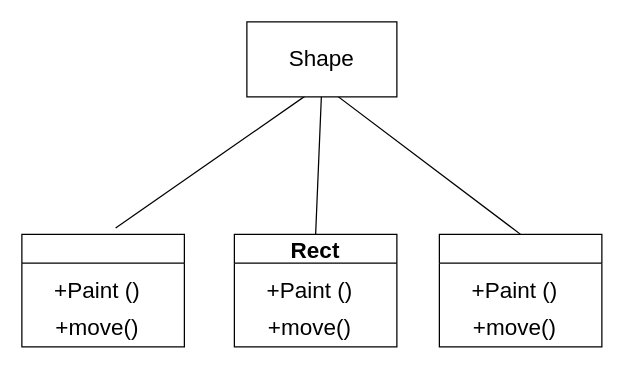
Some shapes in this 624 by 369 pixel diagram are drawn without their labels. Each missing label, with the box of its shape:
circle: (21, 233, 184, 347)
Line: (438, 233, 602, 347)
